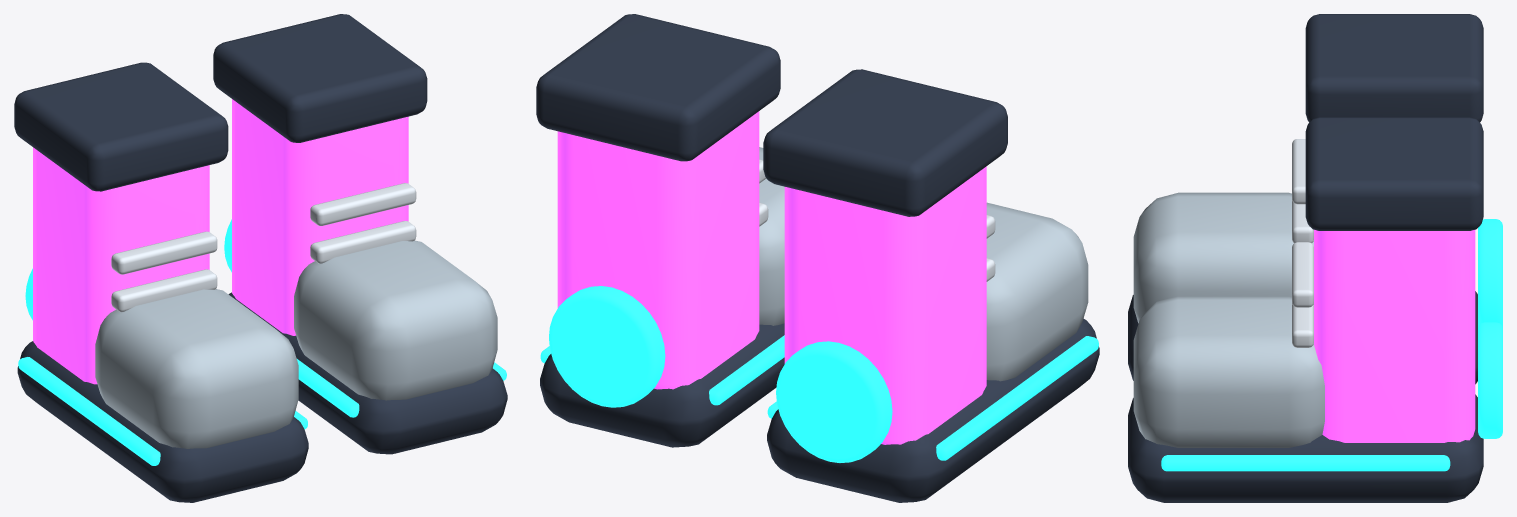
Rendered from free-gravity-boots.glb.
3 renders of one model, left to right at view 1: azimuth 30°, elevation 25°; view 2: azimuth 150°, elevation 25°; view 3: azimuth 270°, elevation 25°, orthographic. The views are drawn at different scales.
Parts seen in each view (by area): view 1: gravity-boots; view 2: gravity-boots; view 3: gravity-boots.
Part boxes in pixels (x1,y1,x2,y2): gravity-boots: (14, 14, 507, 502); gravity-boots: (536, 14, 1099, 502); gravity-boots: (1128, 14, 1502, 502).
Bounding box in the file's own units: 0.79 × 0.65 × 0.675.
